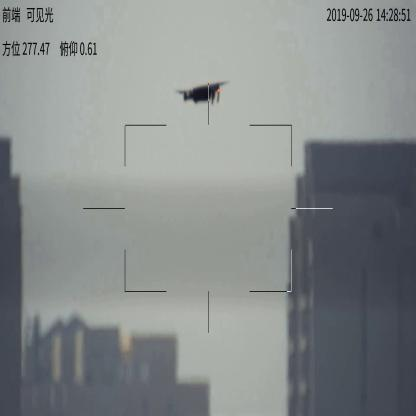uav: (177, 80, 229, 105)
